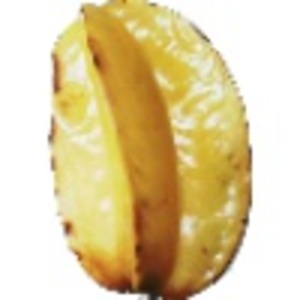carambola: (48, 1, 254, 300)
